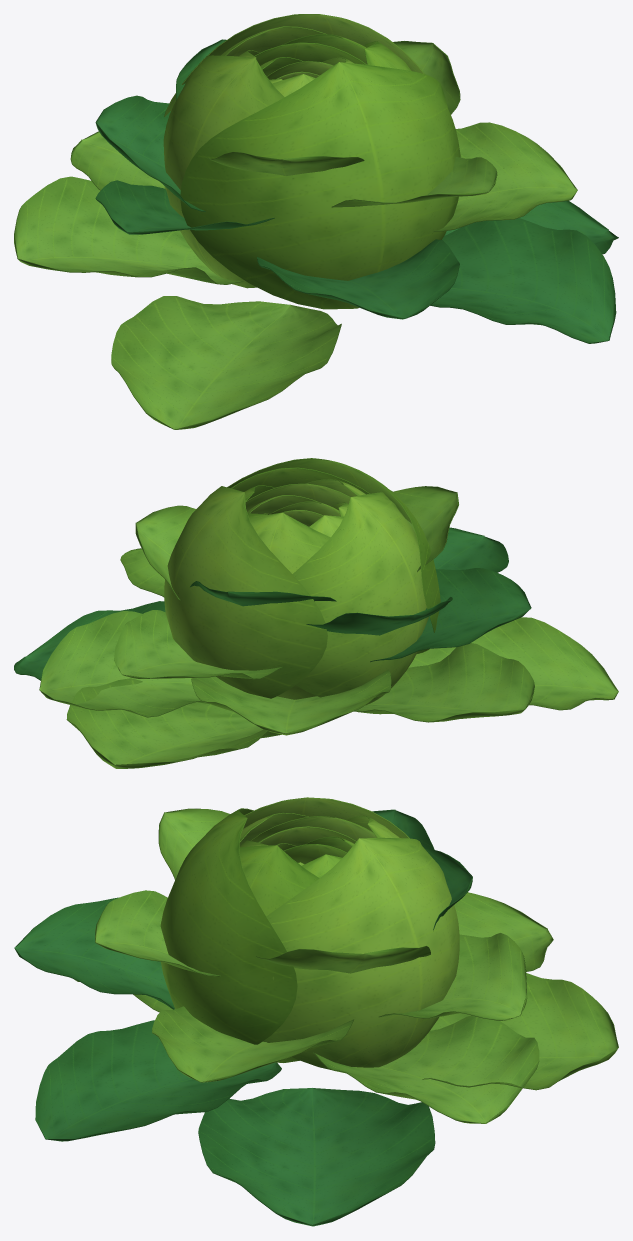
File: lettuce-butterhead-mobile.glb
3 renders of one model, top to bottom at view 1: azimuth 30°, elevation 25°; view 2: azimuth 150°, elevation 25°; view 3: azimuth 270°, elevation 25°, orthographic. The views are drawn at different scales.
Parts seen in each view (by area): view 1: Lettuce · Butterhead; view 2: Lettuce · Butterhead; view 3: Lettuce · Butterhead.
Part boxes in pixels (left/top/right/bottom): Lettuce · Butterhead: left=14, top=14, right=618, bottom=429; Lettuce · Butterhead: left=14, top=458, right=618, bottom=768; Lettuce · Butterhead: left=14, top=797, right=618, bottom=1226.
Size of the model in its own units: 0.4544 by 0.2045 by 0.4227.
Materials: 4 (4 with a texture image).
